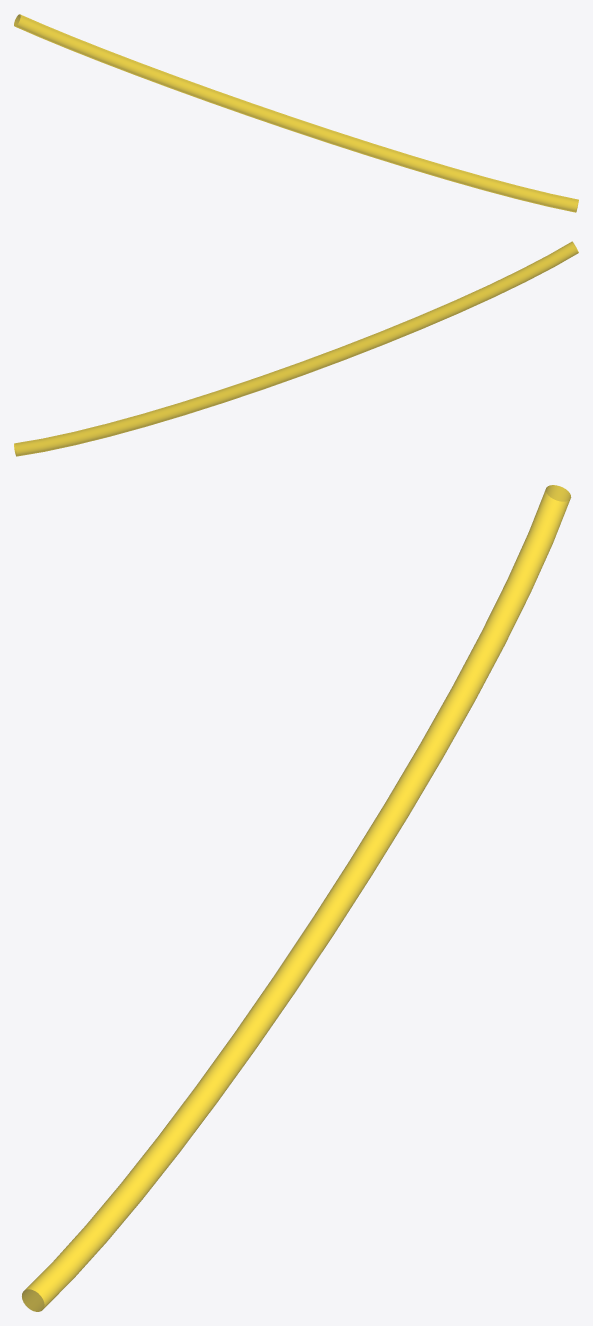
File: Event_100608114_track_126.fbx
3 views of the same model, one above another, from view 1: azimuth 30°, elevation 25°; view 2: azimuth 210°, elevation 25°; view 3: azimuth 270°, elevation 25° (orthographic). The views are drawn at different scales.
Parts seen in each view (by area): view 1: Model; view 2: Model; view 3: Model.
Boxes of the visible parts, left/top/right/bottom form: Model: left=14, top=14, right=578, bottom=212; Model: left=14, top=241, right=578, bottom=456; Model: left=22, top=485, right=571, bottom=1311.
Bounding box in the file's own units: 1.49 × 0.674 × 0.8161.
